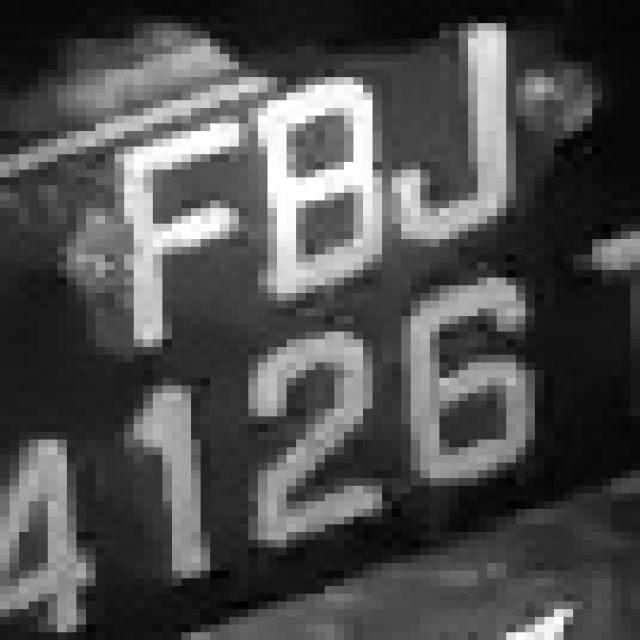1: (124, 347, 220, 617)
2: (220, 308, 382, 563)
4: (10, 401, 124, 625)
6: (392, 285, 564, 509)
B: (229, 61, 401, 332)
F: (114, 108, 238, 370)
J: (372, 15, 535, 247)
